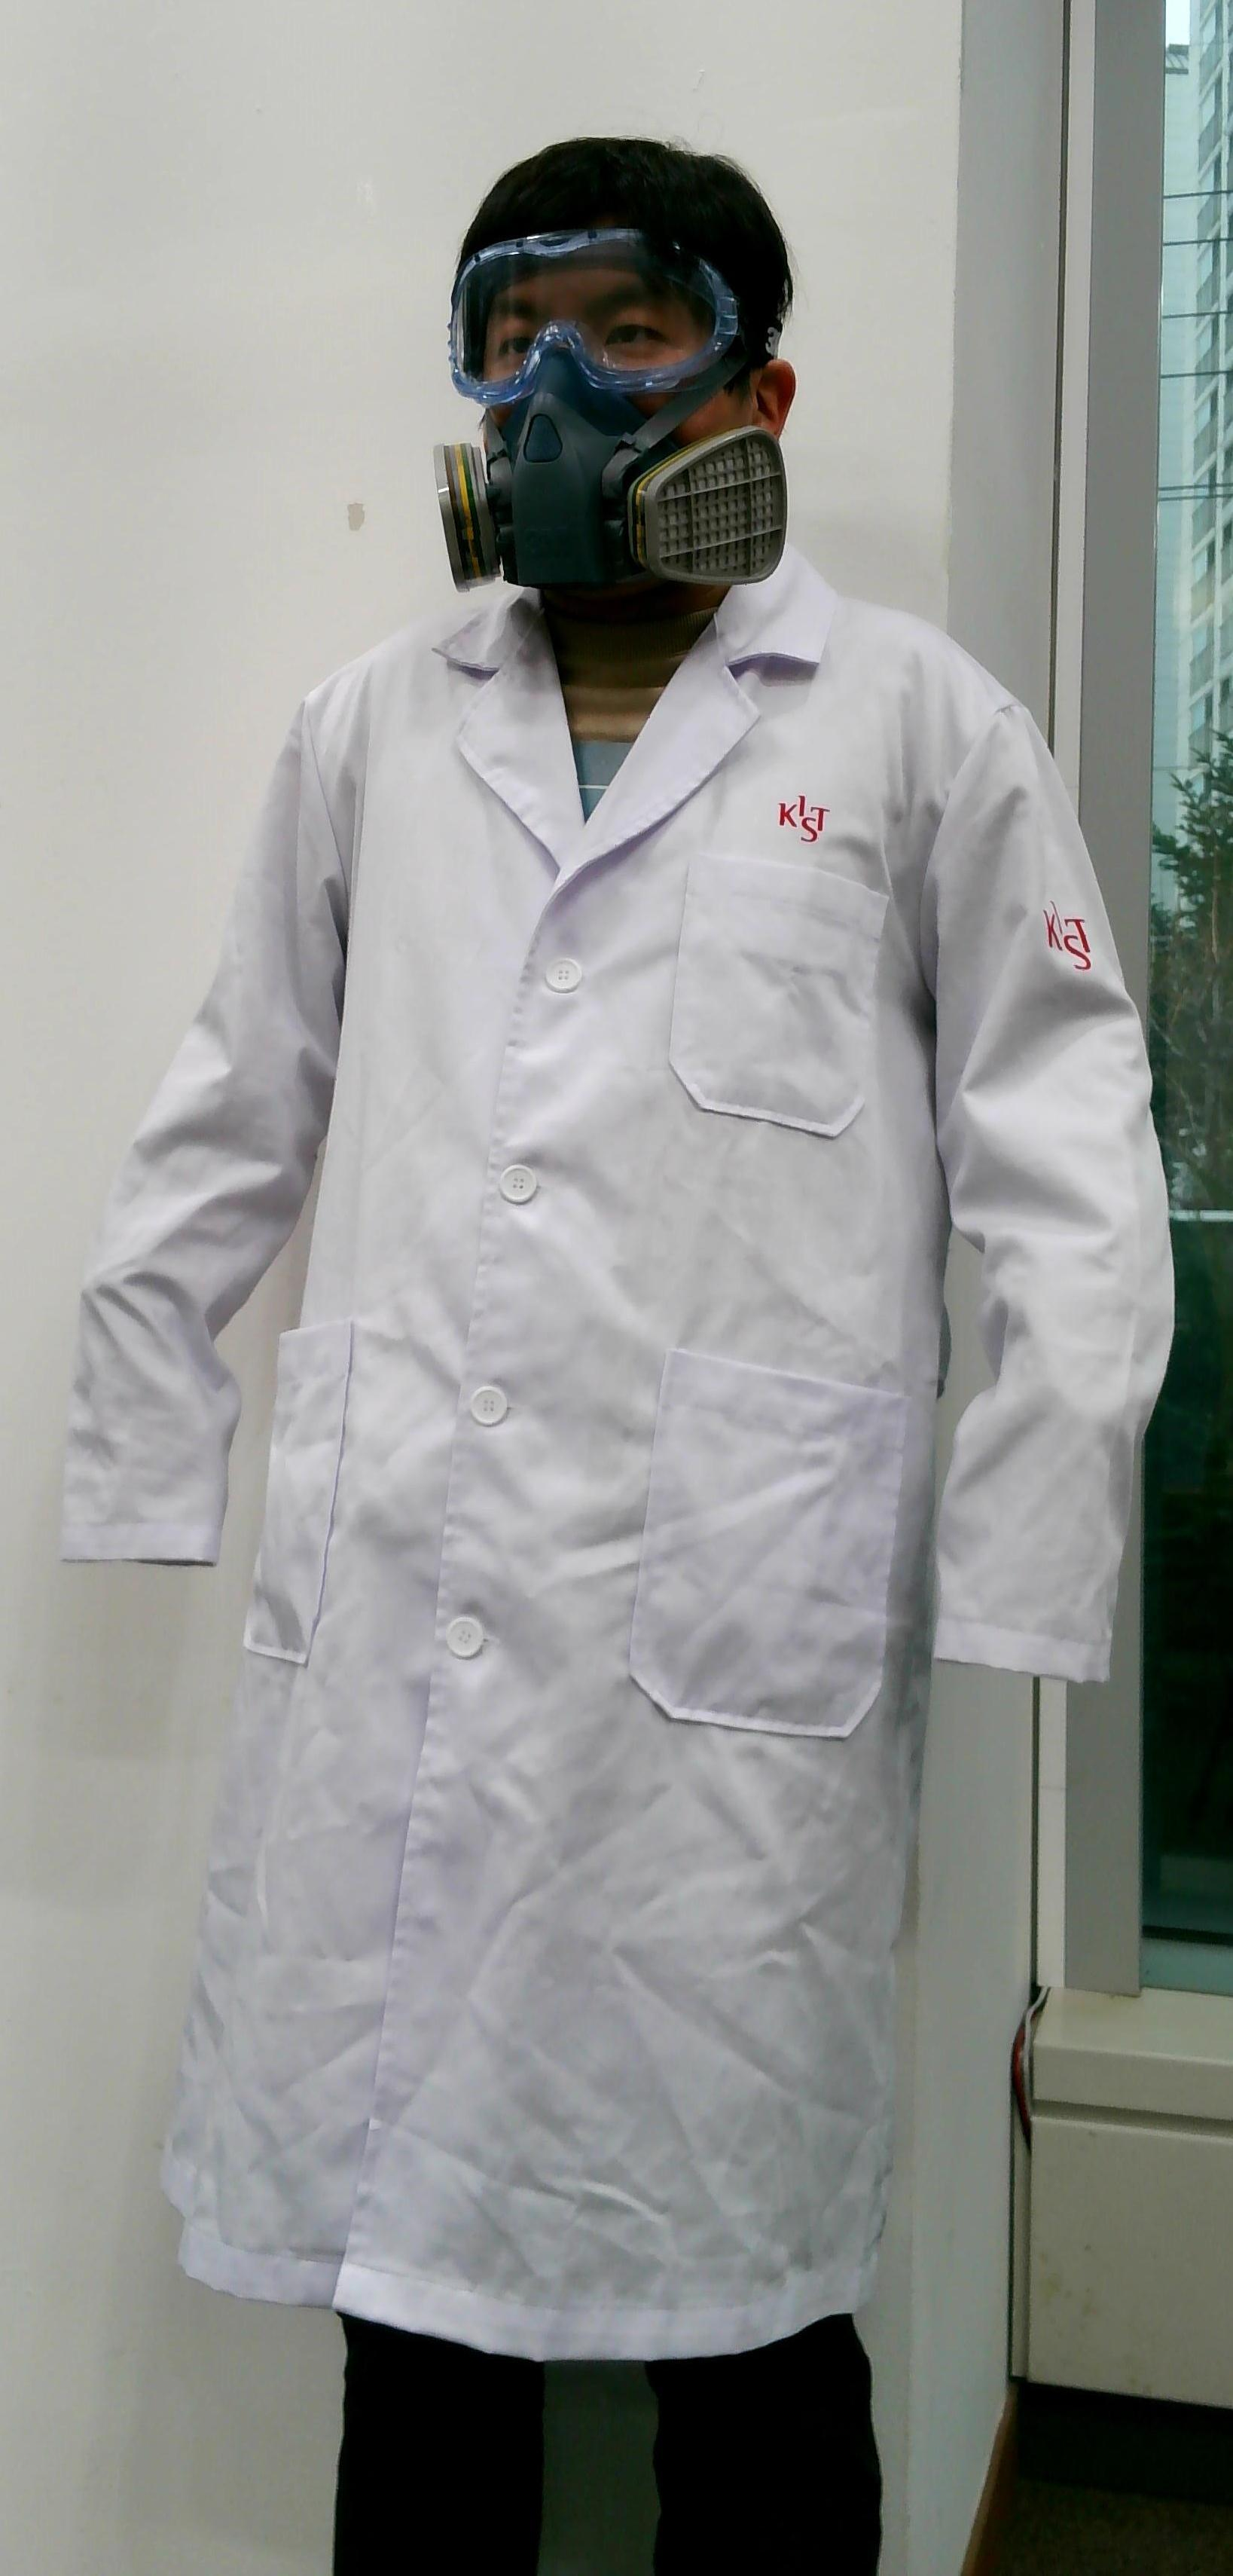lab_coat: (77, 672, 1169, 2369)
